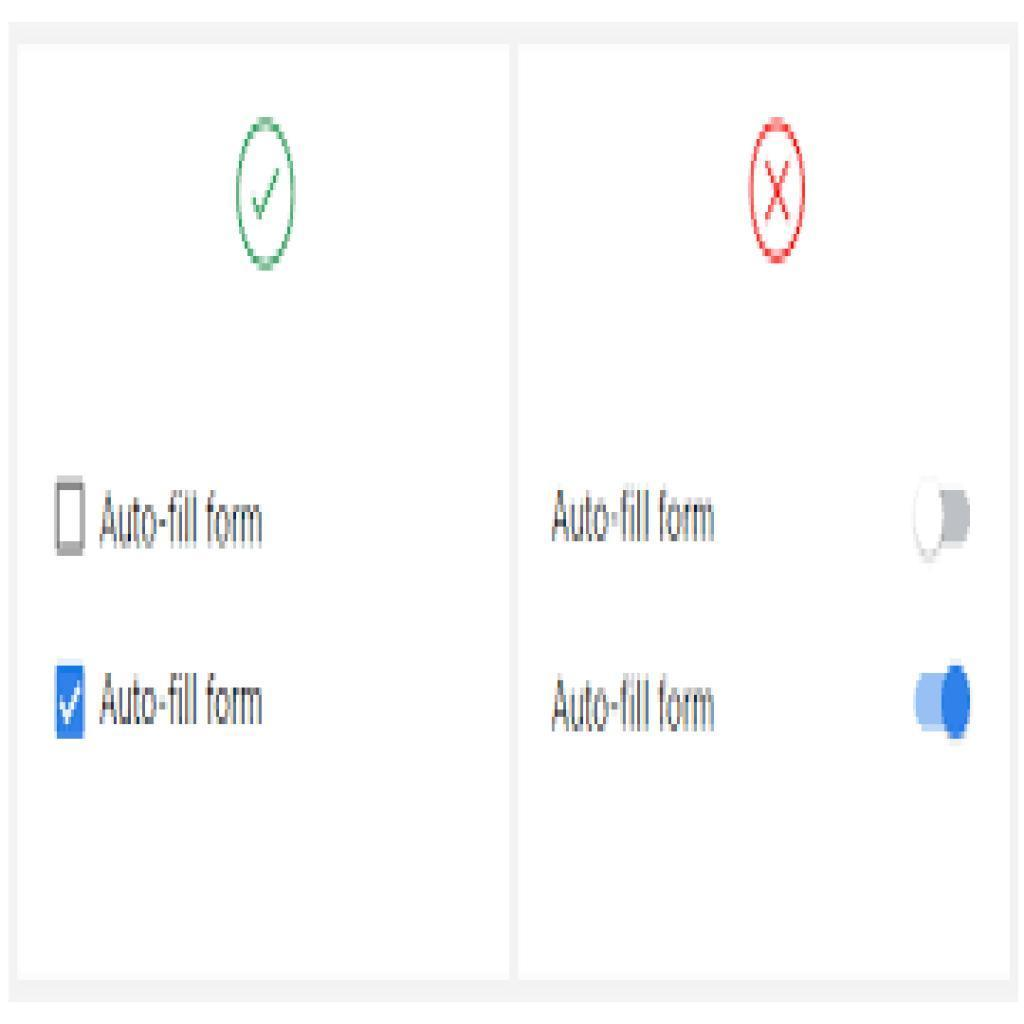checkbox: (53, 663, 88, 739), (57, 480, 87, 552)
switch: (908, 662, 980, 740), (909, 489, 978, 556)
